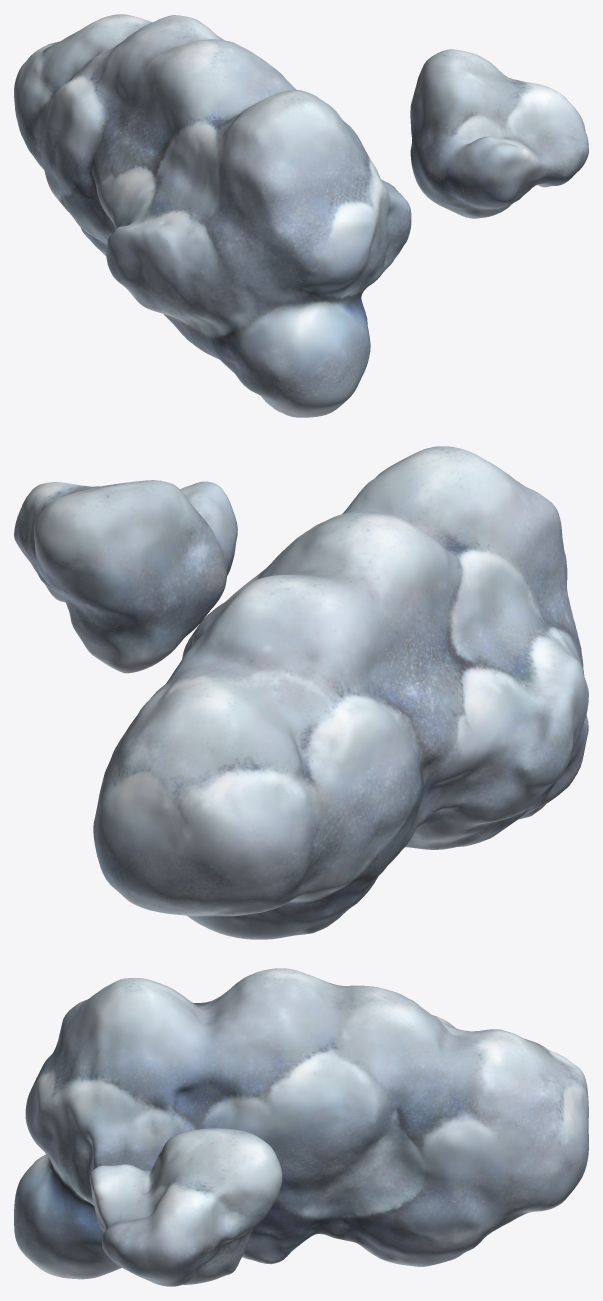
Rendered from clouds.glb.
3 renders of one model, top to bottom at view 1: azimuth 30°, elevation 25°; view 2: azimuth 150°, elevation 25°; view 3: azimuth 270°, elevation 25°, orthographic. The views are drawn at different scales.
Visible parts, largest first — view 1: geometry_0; view 2: geometry_0; view 3: geometry_0.
Part boxes in pixels (x1,y1,x2,y2): geometry_0: (14, 14, 588, 417); geometry_0: (14, 446, 588, 939); geometry_0: (14, 968, 588, 1286).
Size of the model in its own units: 0.2567 by 0.1621 by 0.2805.
1 material, 1 textured.
